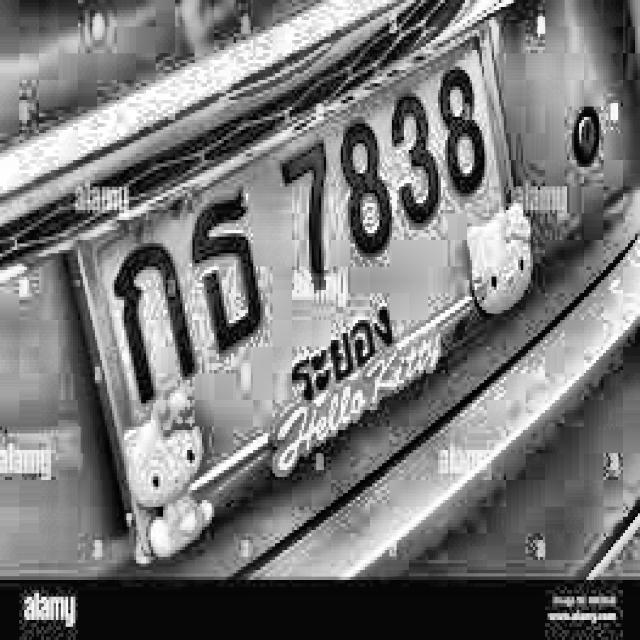license-plate: (77, 17, 520, 566)
